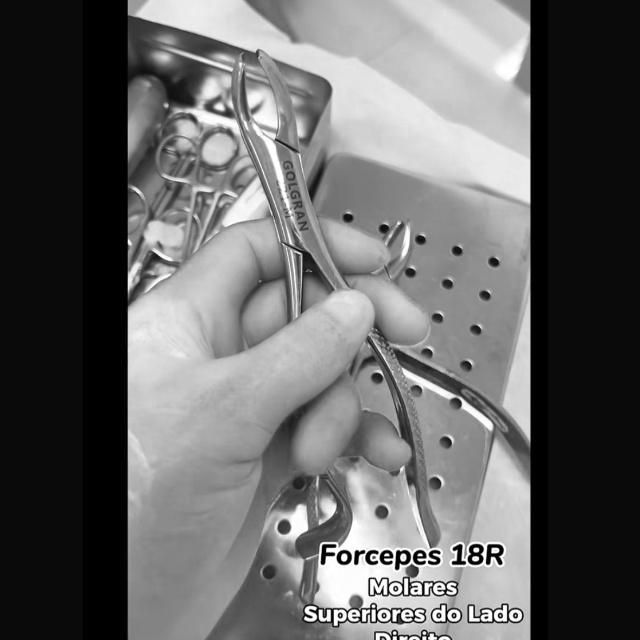forceps: (231, 52, 347, 319), (369, 333, 441, 540), (298, 477, 343, 540)
